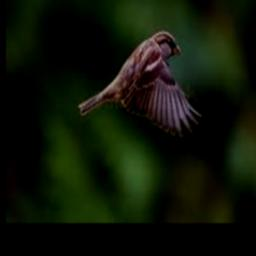Sparrow: (80, 30, 202, 137)
